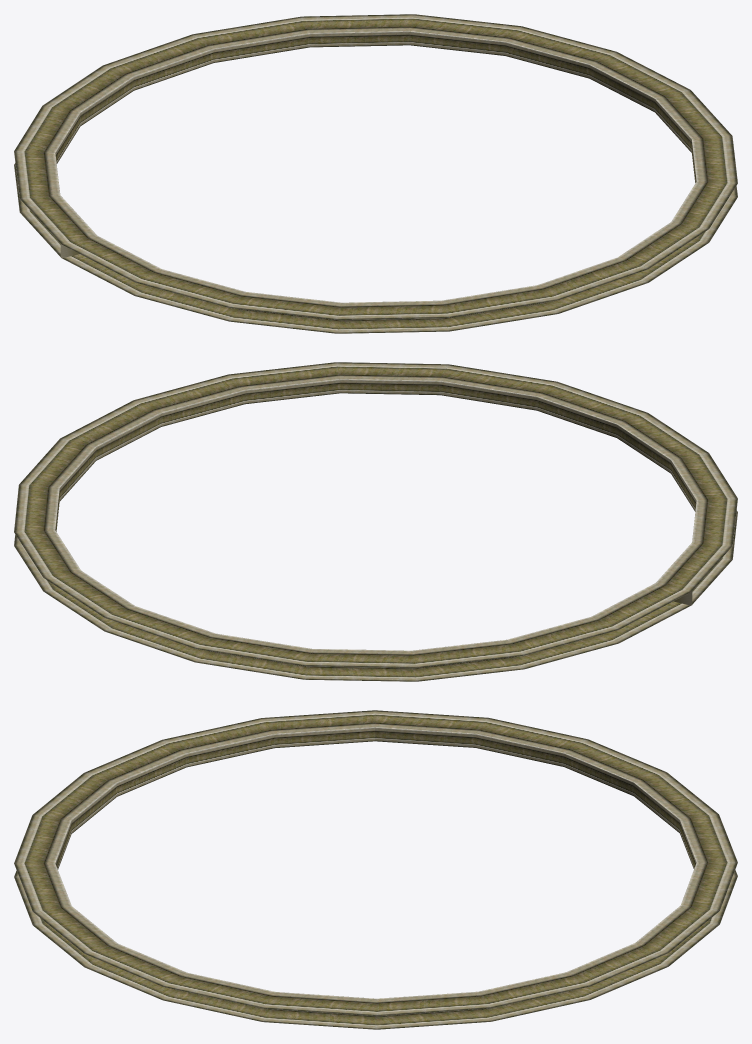
File: CH09_SMAUG_PLAYSURFACE_LAIR123.fbx
3 views of the same model, one above another, from view 1: azimuth 30°, elevation 25°; view 2: azimuth 150°, elevation 25°; view 3: azimuth 270°, elevation 25° (orthographic).
Visible parts, largest first — view 1: CH09_SMAUG_PLAYSURFACE_LAIR123; view 2: CH09_SMAUG_PLAYSURFACE_LAIR123; view 3: CH09_SMAUG_PLAYSURFACE_LAIR123.
Boxes of the visible parts, x1,y1,x2,y2 form: CH09_SMAUG_PLAYSURFACE_LAIR123: [14, 14, 737, 333]; CH09_SMAUG_PLAYSURFACE_LAIR123: [14, 362, 737, 681]; CH09_SMAUG_PLAYSURFACE_LAIR123: [14, 710, 737, 1029].
Size of the model in its own units: 703885 by 14578 by 703884.
Materials: 1 (1 with a texture image).
